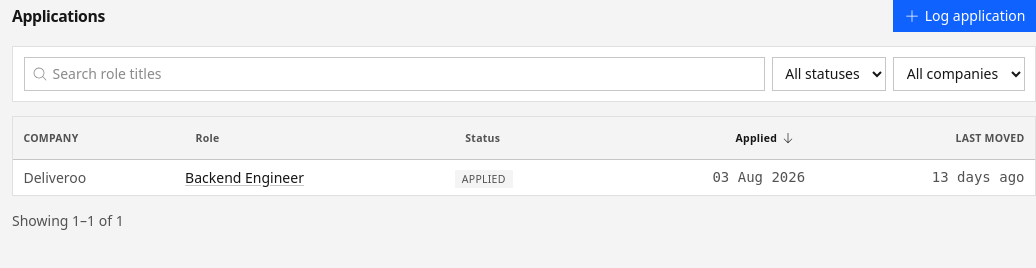
Test: ApplicationsPage › pushes a debounced search into the URL and the request
Expected: the link "Backend Engineer" is shown, [185,168,304,187]
Type "backend" into the search field labelled "Search role titles" at (394, 74), box [24,57,764,90]
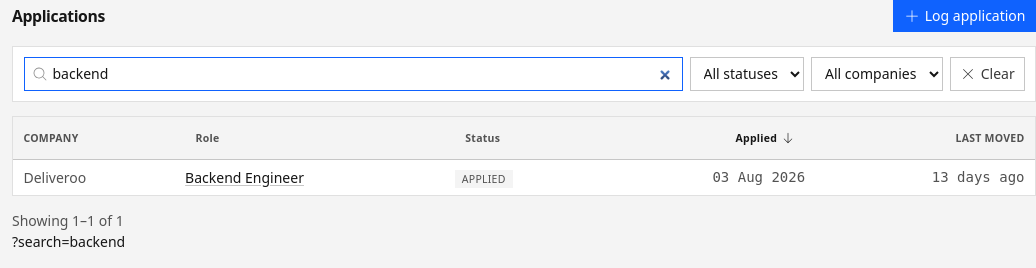
Now the text with test id "search-params" shows "search=backend", box [12,232,125,251]
